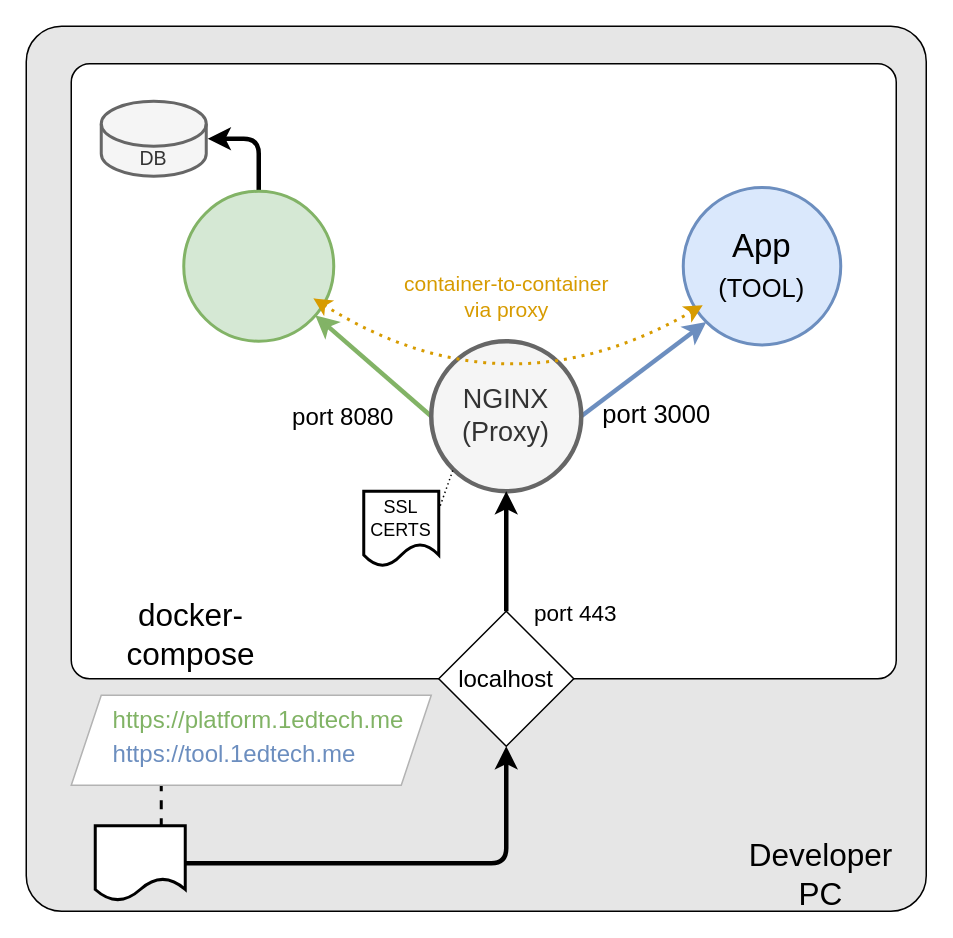
Some shapes in this 953 by 938 pixel diagram are drawn without their labels. Each missing label, with the centre of its shape:
"HOSTS FILE" belongs at pixel 139 863.
"Moodle (Platform)" belongs at pixel 258 265.
